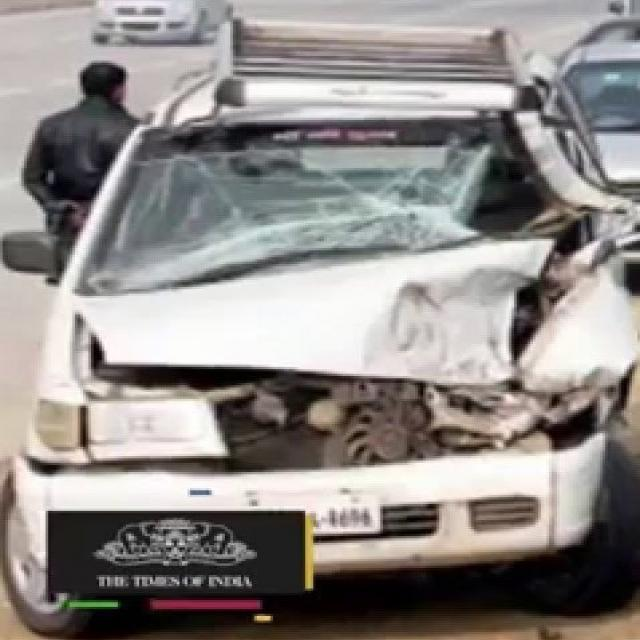accident: (10, 109, 618, 578)
